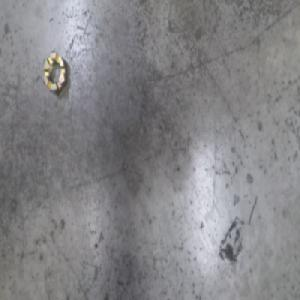Nut: (41, 48, 68, 97)
